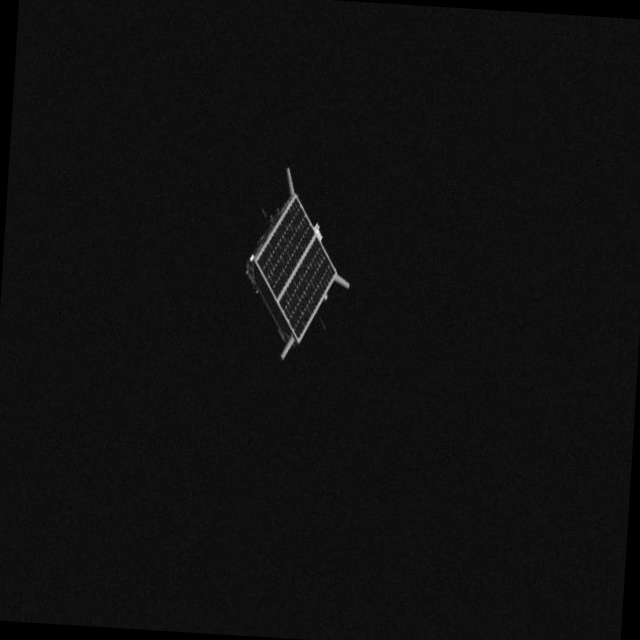satellite: (222, 160, 373, 361)
